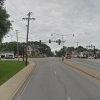Tree: (0, 4, 15, 44)
